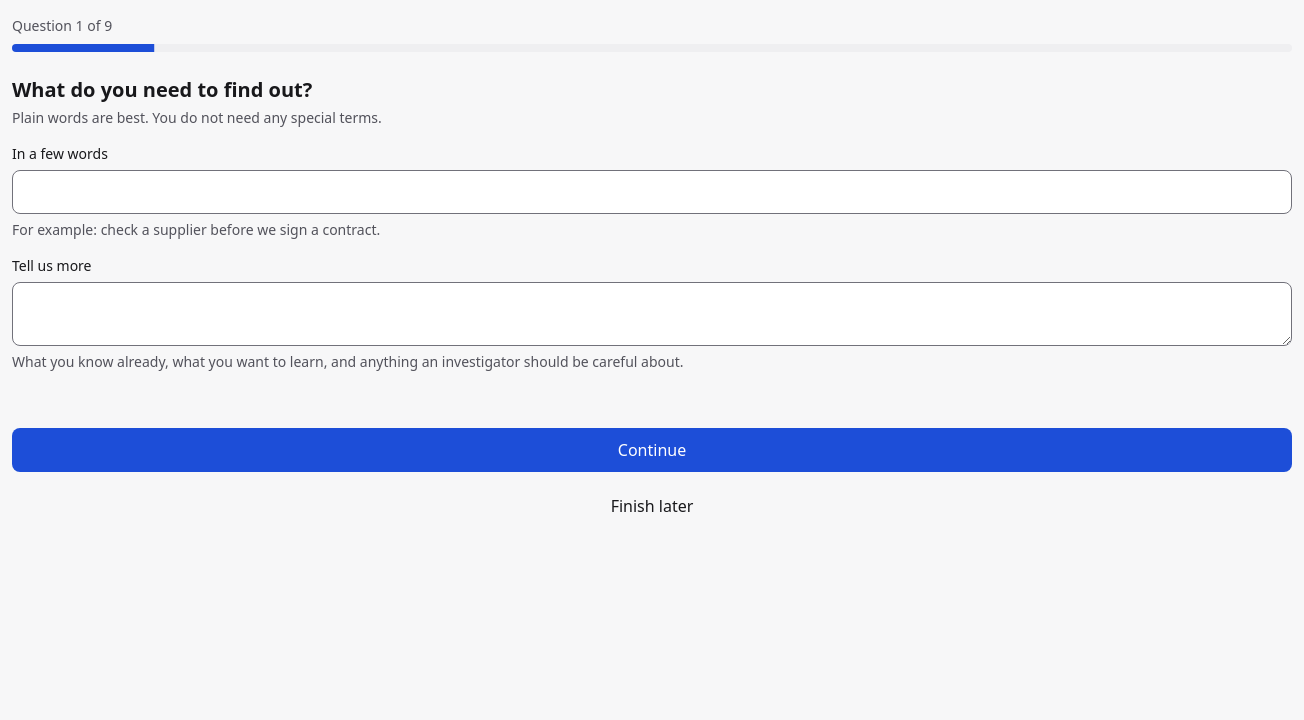
it: mission intake › saving as the customer goes › creates nothing by opening, and creates the draft with the first answer
Expected: the heading reads "What do you need to find out?", [12,76,312,103]
Expected: the text "Question 1 of 9" is shown, [12,16,112,35]
In the field labelled "In a few words": (652, 192) [12,170,1292,214], type "Check a supplier"
Wait 800 ms
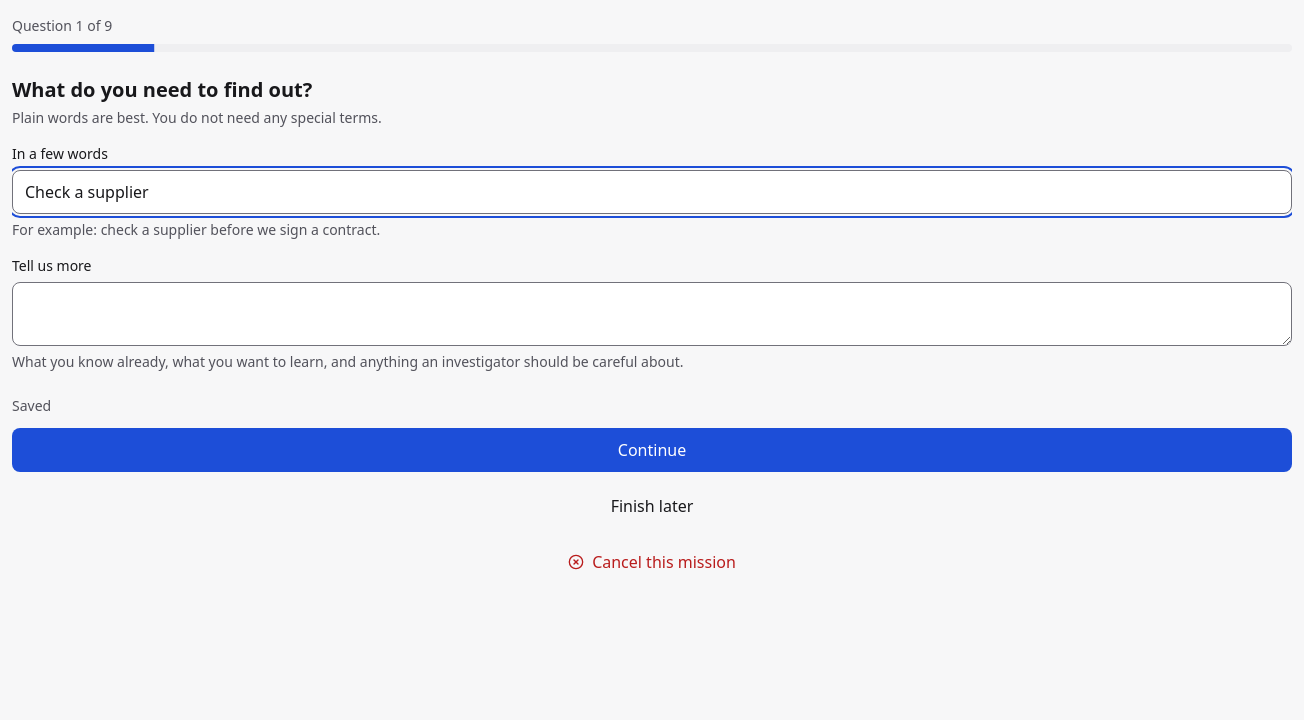
Now the message reads "Saved", box [12,396,51,415]
